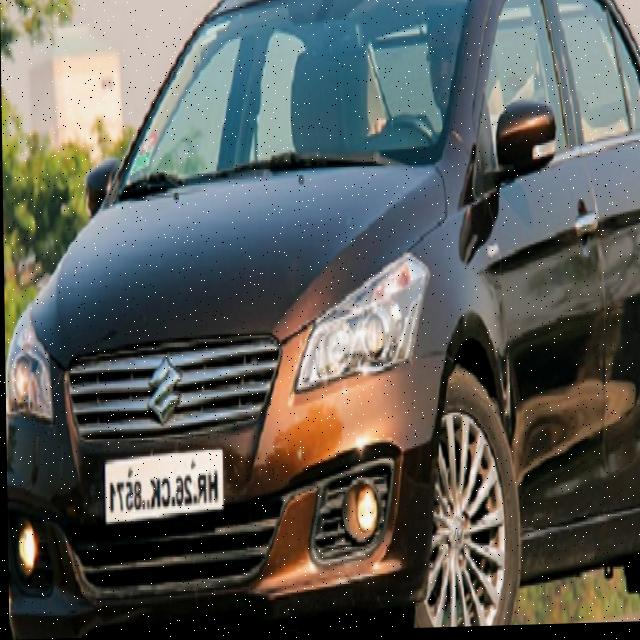plate: (101, 444, 225, 527)
